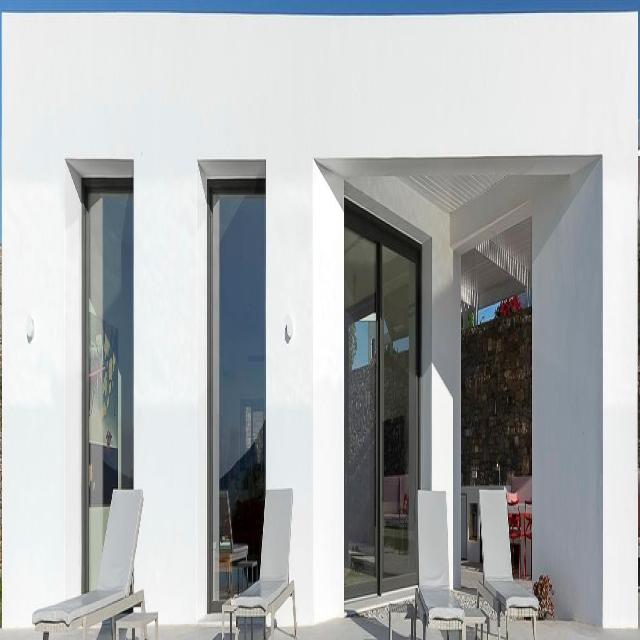door: (345, 194, 422, 608)
window: (208, 178, 266, 614), (81, 176, 133, 600)
